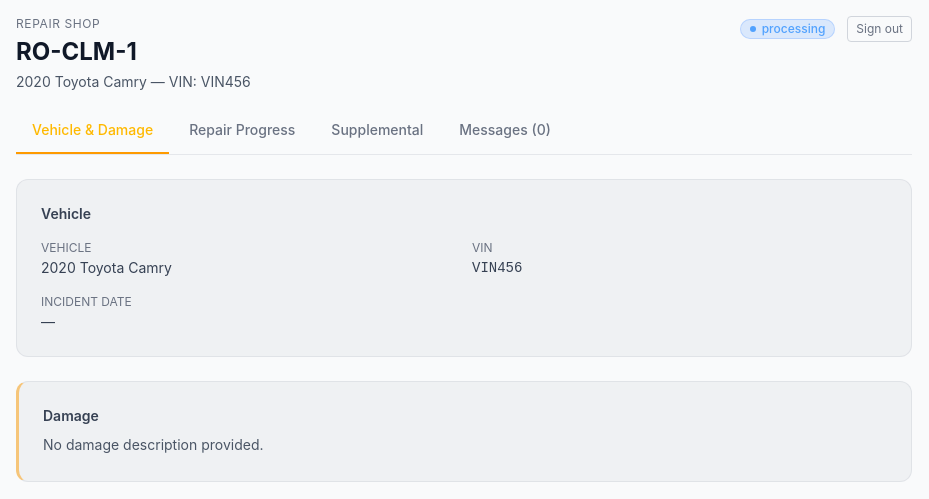
Test case: RepairPortalClaimDetail › shows supplemental not available for non-partial_loss claim
The width and height of the screenshot is (929, 499).
Click the button "Supplemental" at point(377, 135), box 315,116 -> 439,154
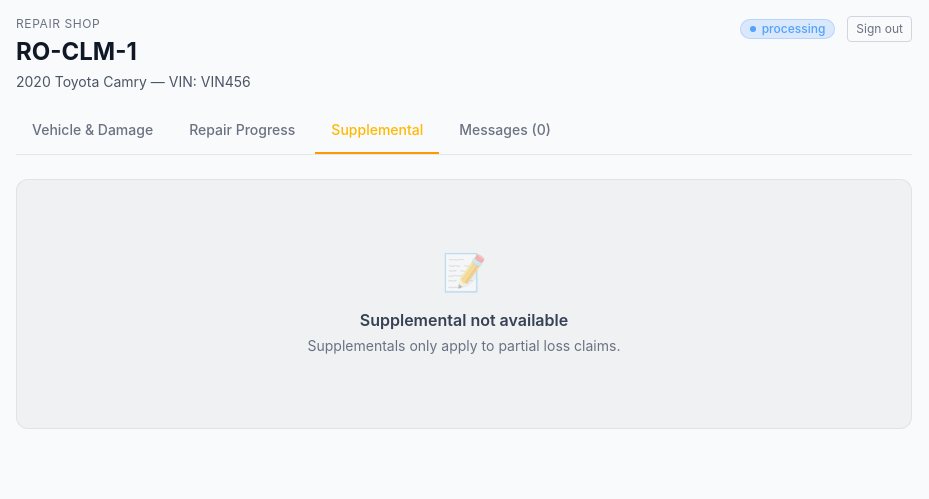
Now the heading "Supplemental not available" is shown, box 360,308 -> 568,332
Now the text "Supplementals only apply to partial loss claims." is shown, box 308,336 -> 620,356
